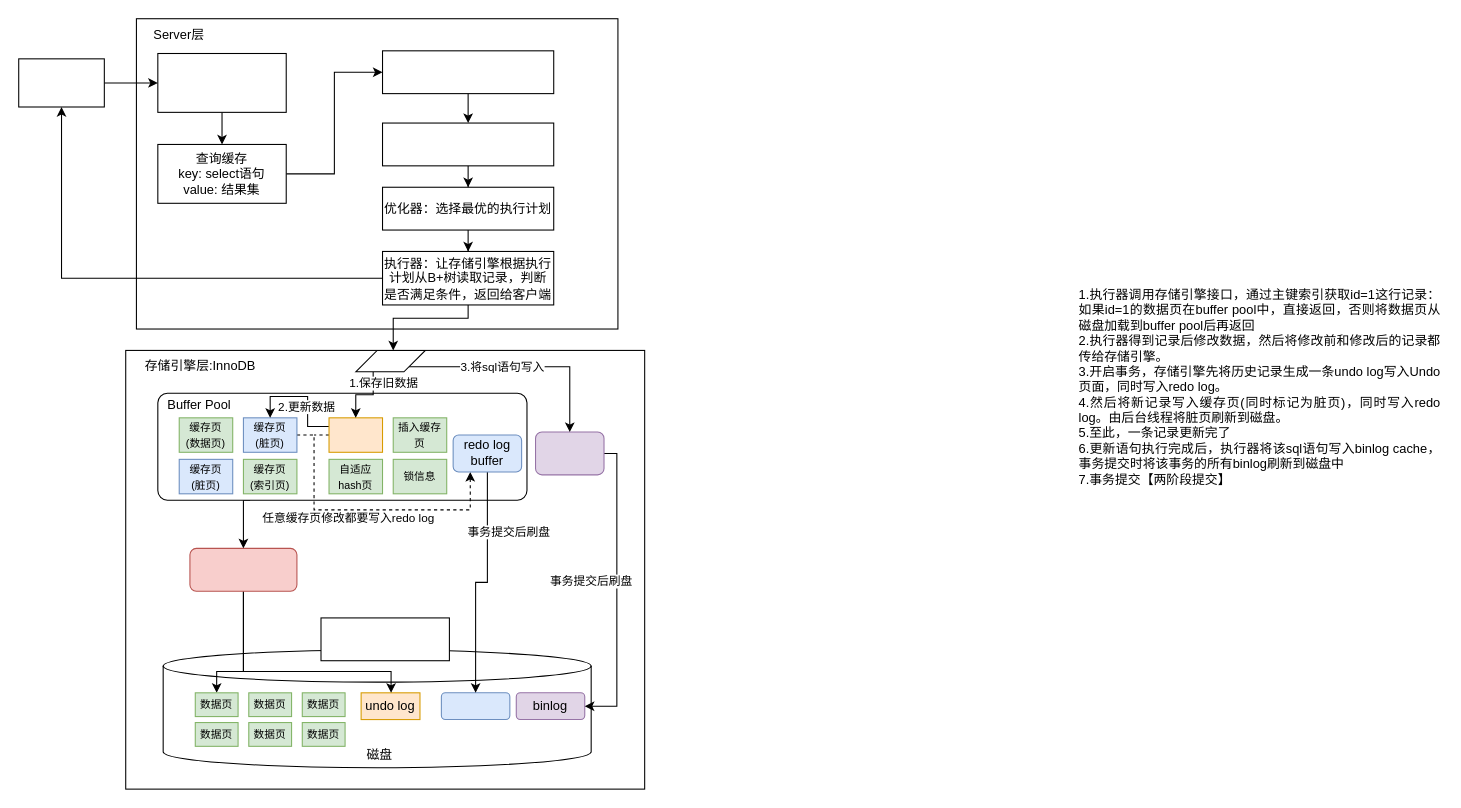
The diagram is 1461 pixels wide and 808 high, and some of its shapes have lost their labels. Each missing label, with the centre of its shape:
"binlog cache" goes at [569,453].
"redo log" goes at [475,706].
"undo页" goes at [355,434].
"后台刷盘线程" goes at [243,569].
"客户端" goes at [61,82].
"操作系统 Page Cahe(文件缓存)" goes at [384,639].
"数据" goes at [390,360].
"解析器：词法分析语法分析，判断是否满足SQL语法" goes at [467,72].
"连接器:与客户端建立连接，校验用户身份" goes at [221,82].
"预处理器：检查表/字段是否存在，将*替换为所有列" goes at [467,144].
